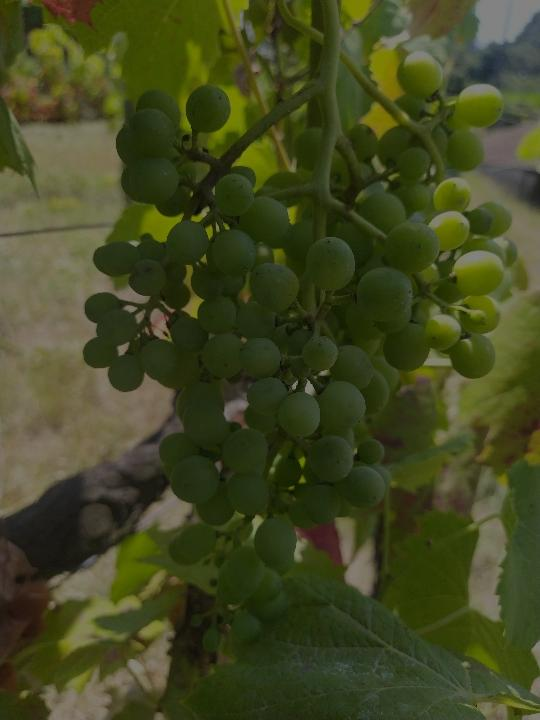grape: (81, 48, 520, 661)
